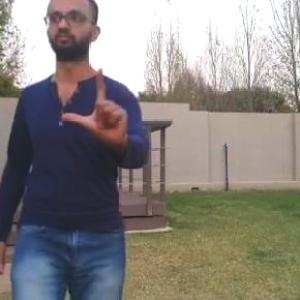land_hand: (58, 61, 132, 148)
